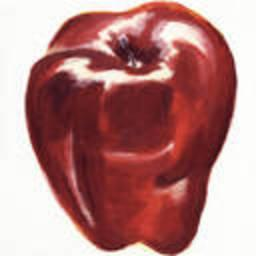apple: (22, 4, 237, 254)
